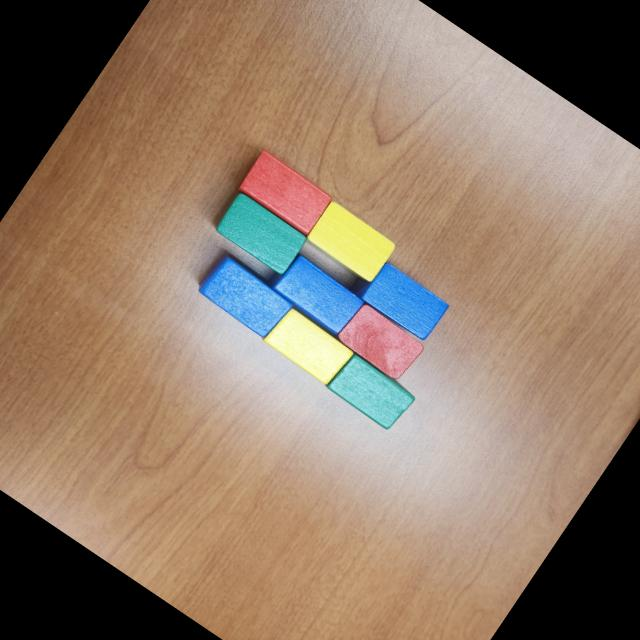blue: (192, 248, 300, 344), (260, 246, 366, 340), (358, 260, 452, 344)
green: (212, 191, 310, 279), (326, 352, 418, 434)
red: (234, 148, 336, 238), (334, 300, 427, 384)
yellow: (304, 200, 398, 284), (262, 306, 354, 388)
